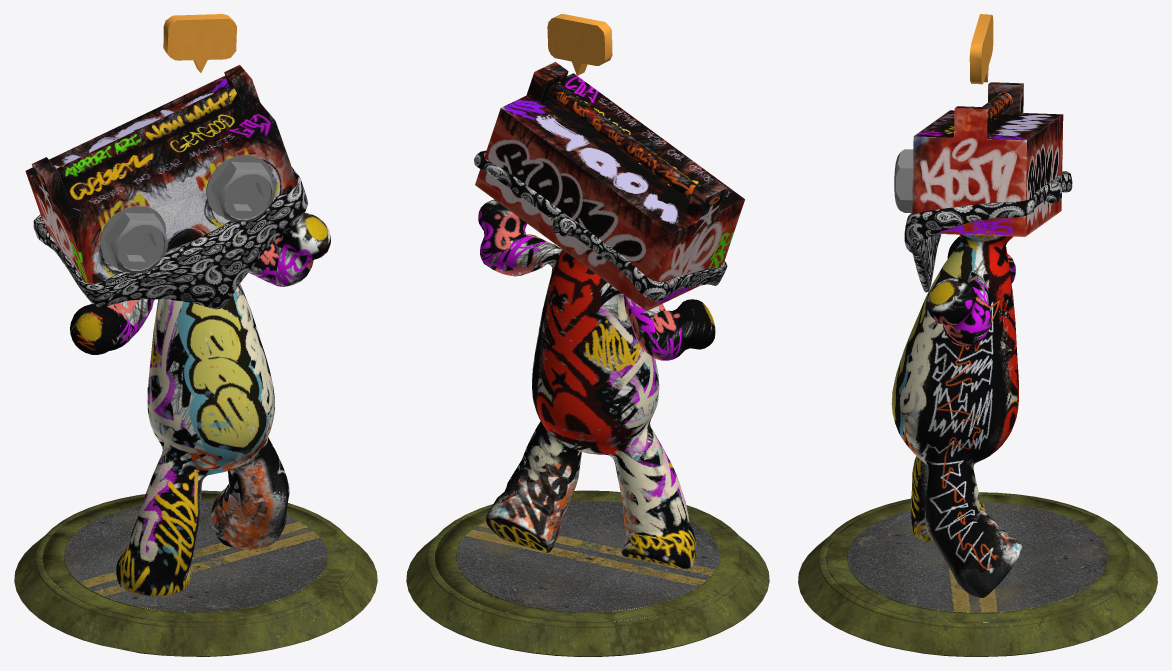
The picture shows the model from 3 angles, left to right: view 1: azimuth 30°, elevation 25°; view 2: azimuth 150°, elevation 25°; view 3: azimuth 270°, elevation 25°; orthographic projection.
Visible parts, largest first — view 1: BBody; view 2: BBody; view 3: BBody.
Boxes of the visible parts, <box> form: BBody: <box>14,14,377,656</box>; BBody: <box>406,14,769,656</box>; BBody: <box>798,14,1157,656</box>.
Size of the model in its own units: 1.45 by 2.48 by 1.45.
Materials: 7 (6 with a texture image).
